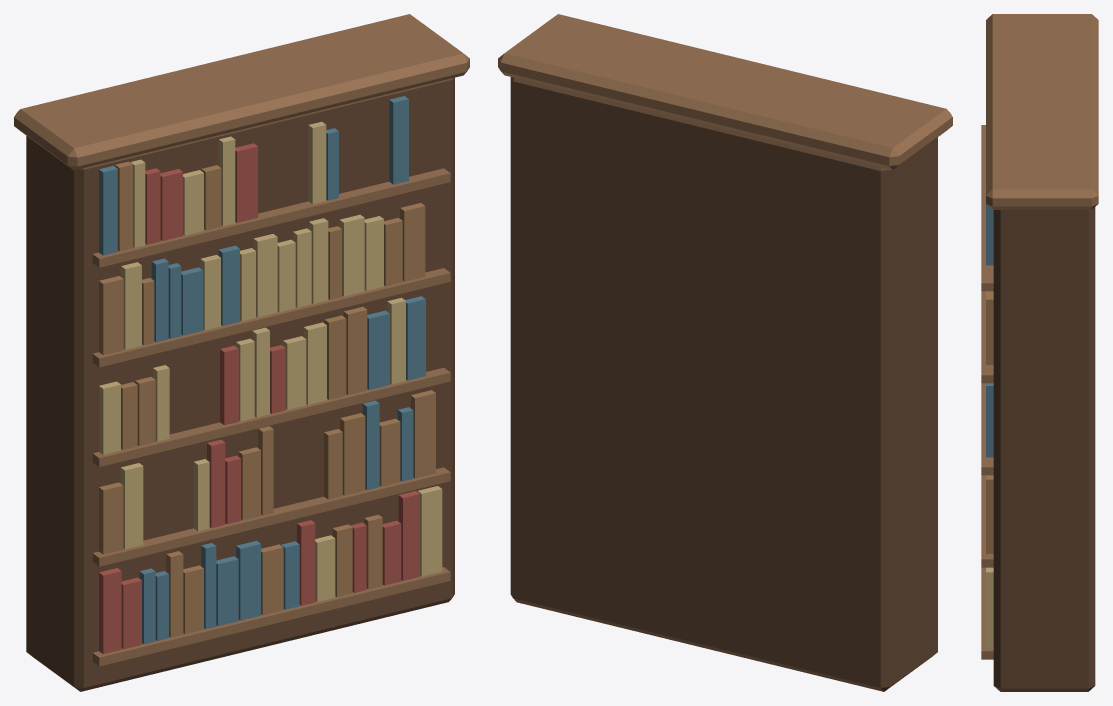
Rendered from hm_bookcase.glb.
3 views of the same model, side by side, from view 1: azimuth 30°, elevation 25°; view 2: azimuth 150°, elevation 25°; view 3: azimuth 270°, elevation 25° (orthographic). The views are drawn at different scales.
Parts seen in each view (by area): view 1: hm_bookcase; view 2: hm_bookcase; view 3: hm_bookcase.
Boxes of the visible parts, x1,y1,x2,y2 form: hm_bookcase: [14, 14, 469, 691]; hm_bookcase: [498, 14, 952, 691]; hm_bookcase: [981, 14, 1098, 691].
Size of the model in its own units: 1.9 by 2.48 by 0.52.
